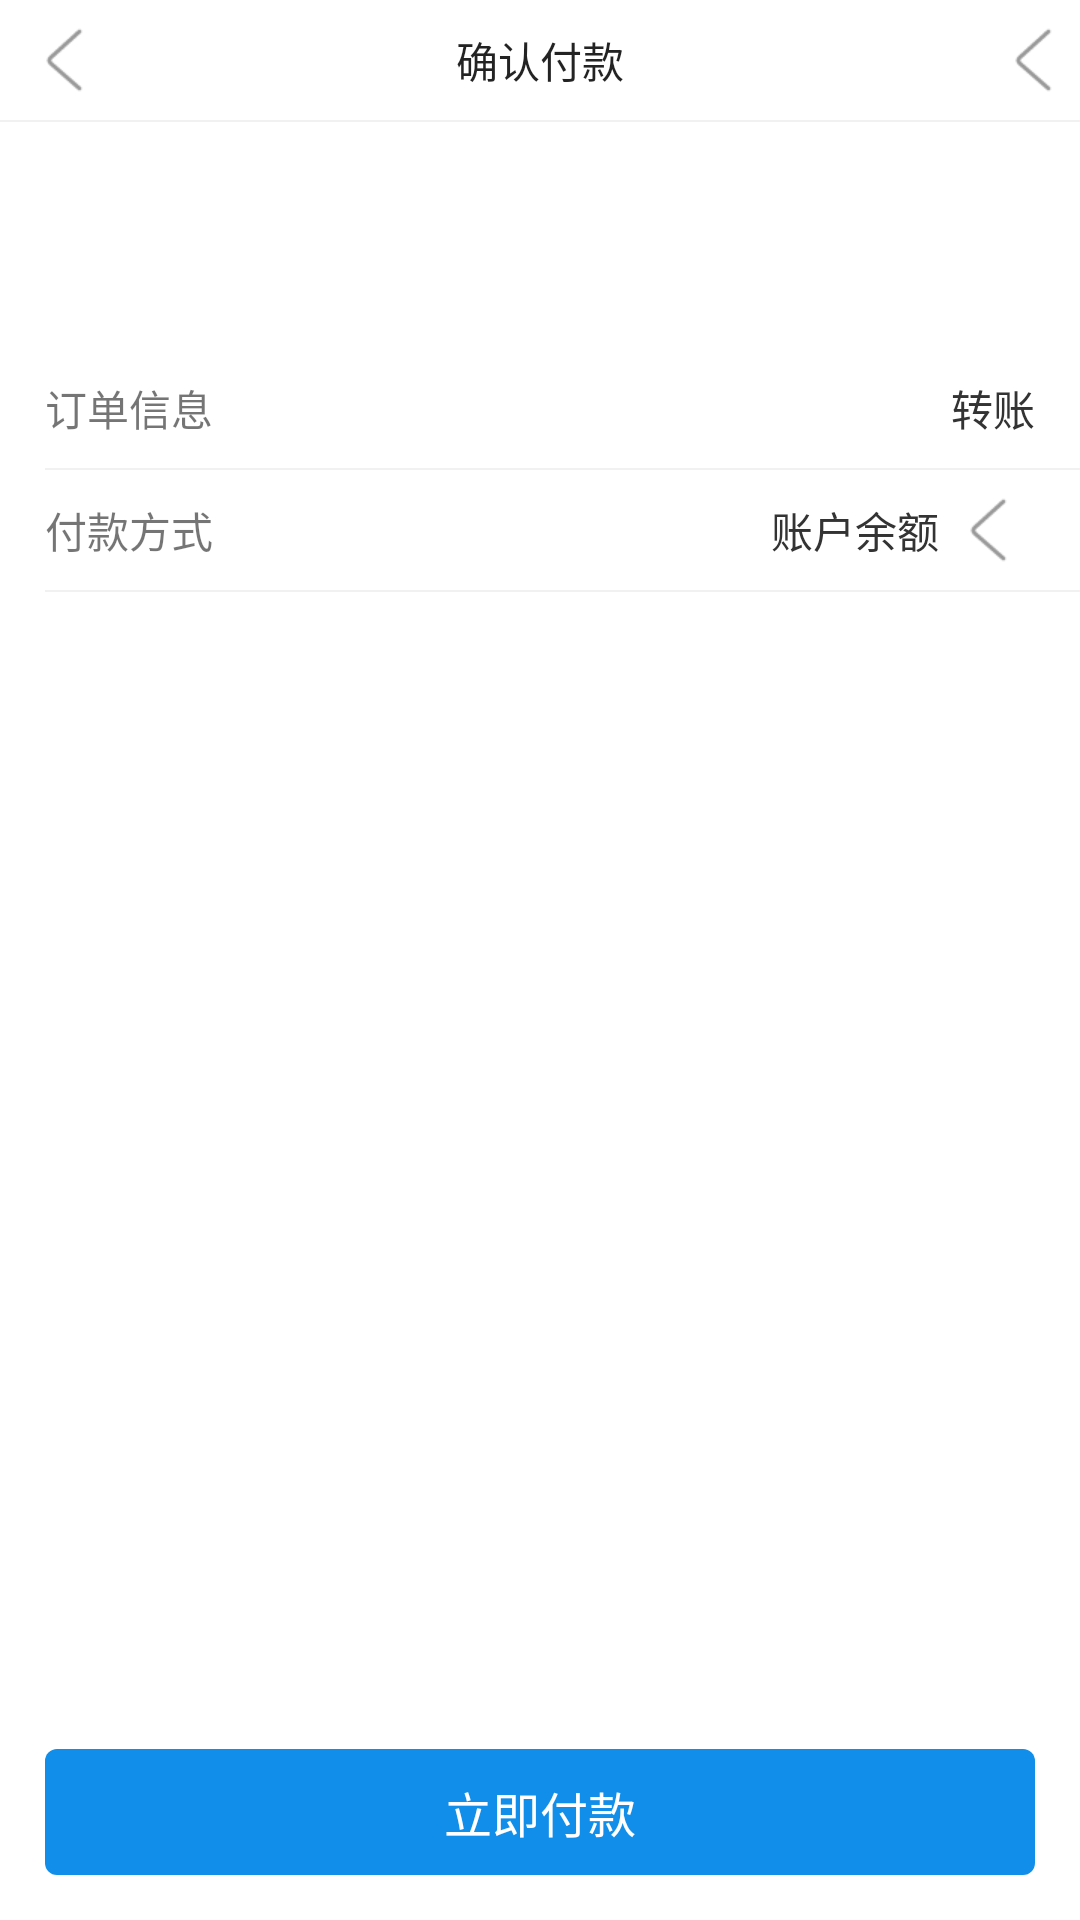

Icon bounding boxes for this 1080px×1920px phone screenshot, format {"x1": x1, "y1": y1, "x2": x2, "y2": y2}:
back: {"x1": 47, "y1": 29, "x2": 82, "y2": 91}, {"x1": 1016, "y1": 29, "x2": 1051, "y2": 91}
